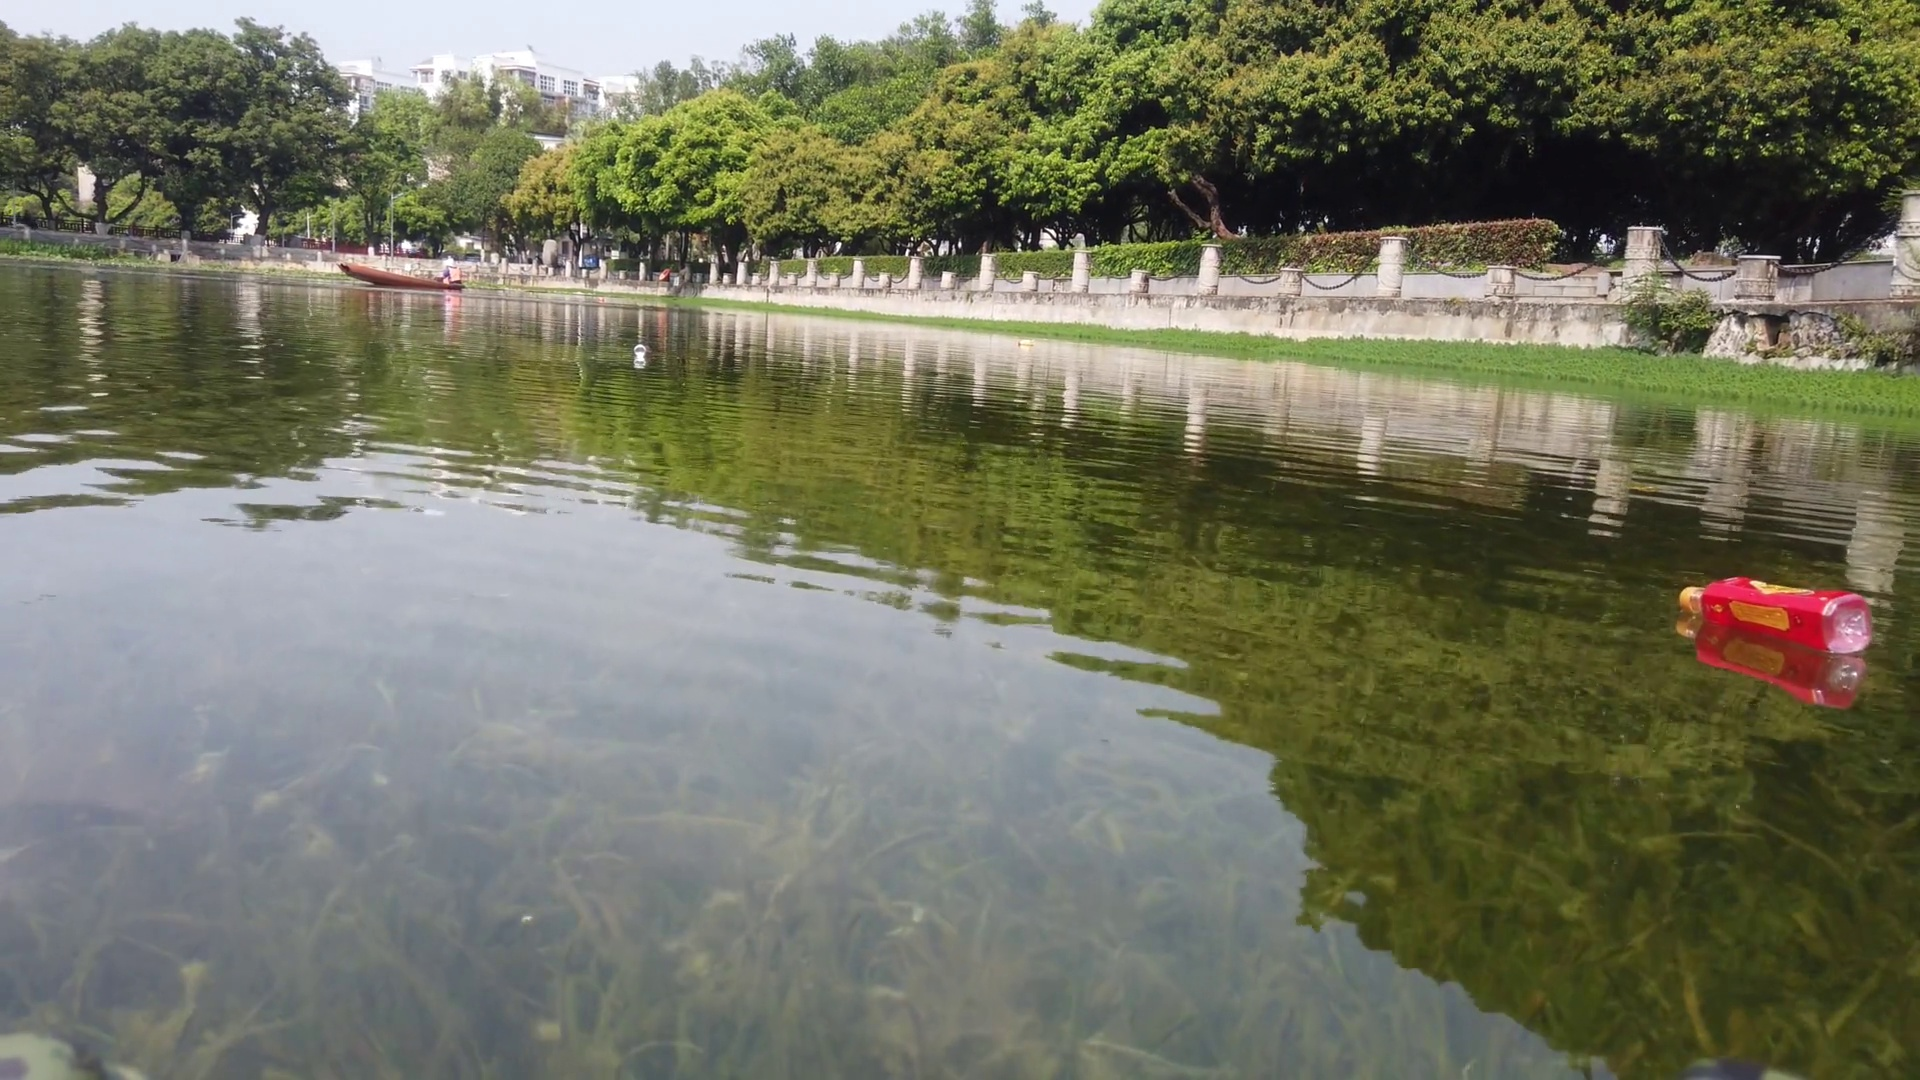bottle: (1673, 575, 1874, 657), (629, 342, 649, 357), (1018, 334, 1036, 349)
